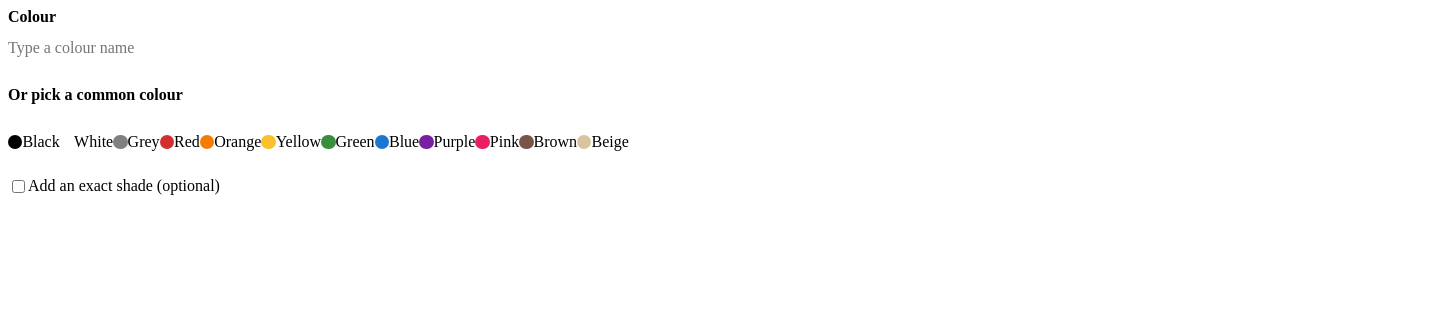
ColorValueInput › an invalid shade blocks Add and explains
Click the checkbox labelled "Add an exact shade (optional)". click: (18, 186)
box: [12,180,25,192]
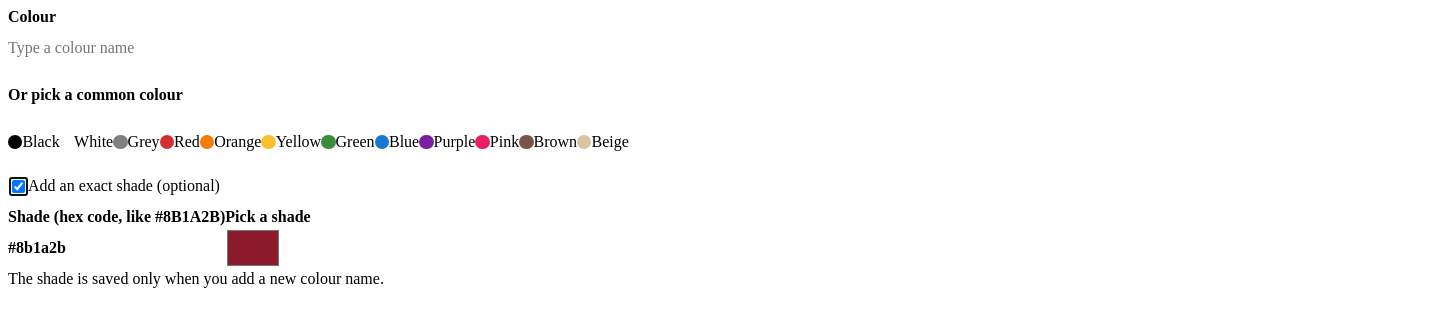
Replace the text in the field labelled "Shade (hex code, like #8B1A2B)" with "#12". click: (117, 248)
box: [8,226,225,270]
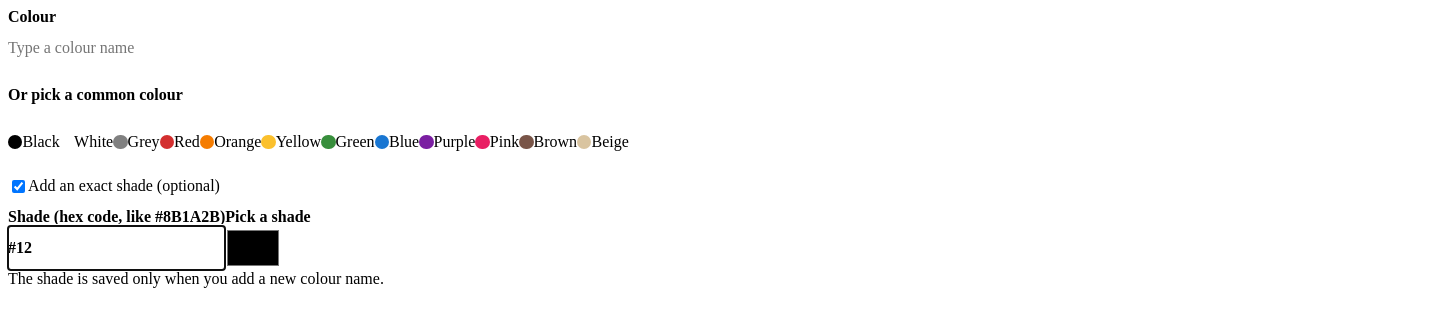
Now the field labelled "Shade (hex code, like #8B1A2B)" is marked as invalid, box [8,226,225,270]
Type "Teal" into the dropdown labelled "Colour". click: (720, 48)
box: [8,26,1432,70]
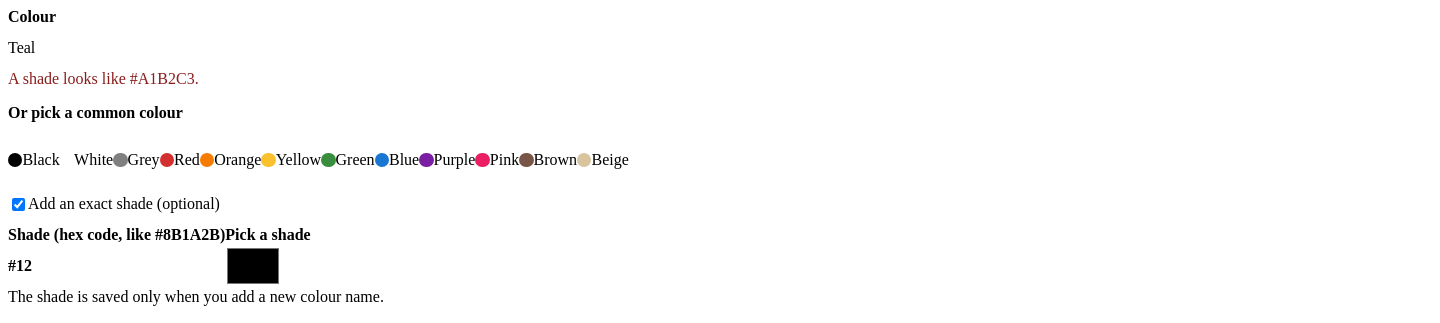
Now the message reads "A shade looks like #A1B2C3.", box [8,70,199,87]
